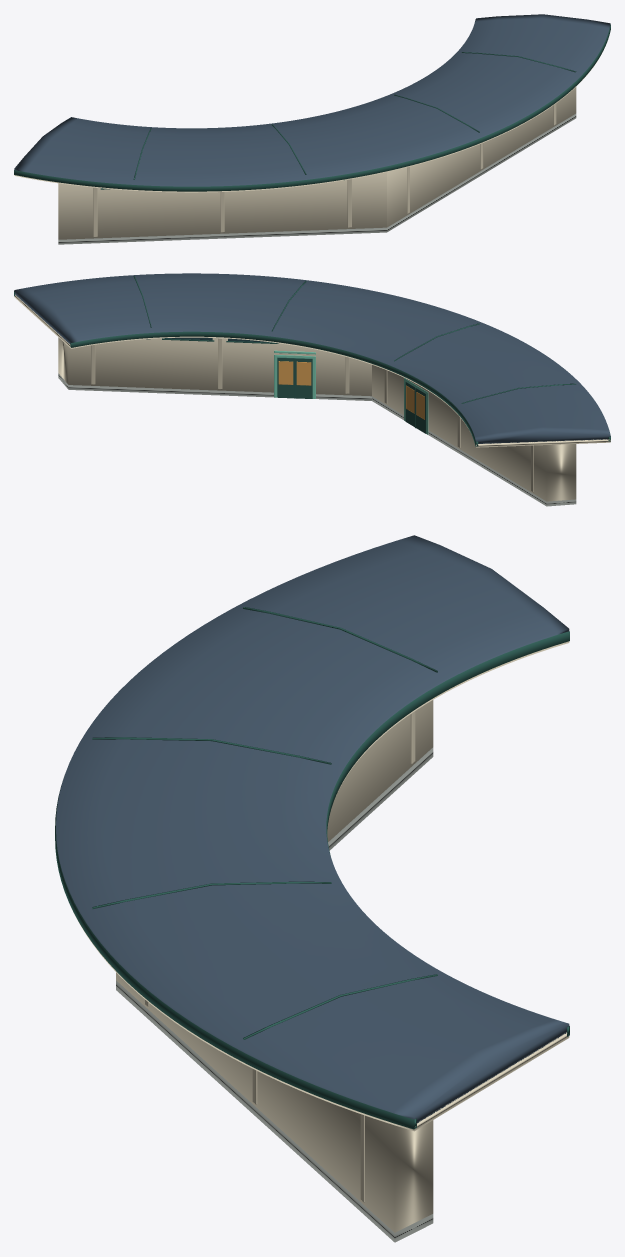
Rendered from d01_sports_pavilion_01.glb.
3 views of the same model, one above another, from view 1: azimuth 30°, elevation 25°; view 2: azimuth 150°, elevation 25°; view 3: azimuth 270°, elevation 25° (orthographic). The views are drawn at different scales.
Parts seen in each view (by area): view 1: D01SportsPavilion01_Mesh; view 2: D01SportsPavilion01_Mesh; view 3: D01SportsPavilion01_Mesh.
Part boxes in pixels (left/top/right/bottom): D01SportsPavilion01_Mesh: left=14, top=14, right=610, bottom=244; D01SportsPavilion01_Mesh: left=14, top=273, right=610, bottom=506; D01SportsPavilion01_Mesh: left=55, top=535, right=569, bottom=1242.
Size of the model in its own units: 45.92 by 6.55 by 17.15.
